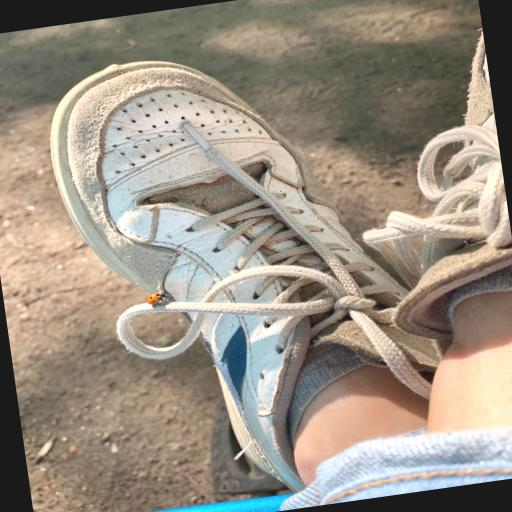shoe: (52, 62, 438, 490), (364, 33, 511, 339)
